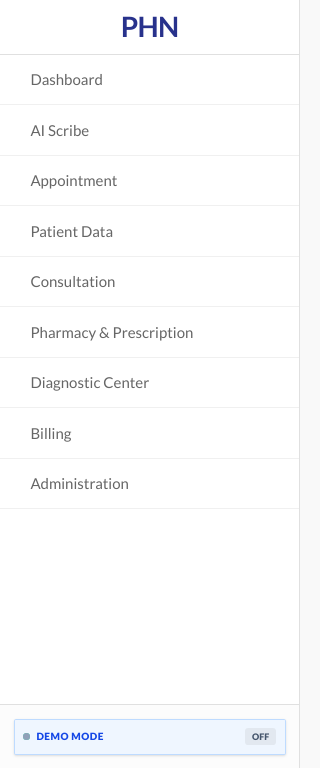
Test: Sidebar Component › renders correctly for doctor role and tests submenu toggle
This screenshot has width=320, height=768.
Click the text "Diagnostic Center". click: (90, 383)
box: [30,371,149,394]
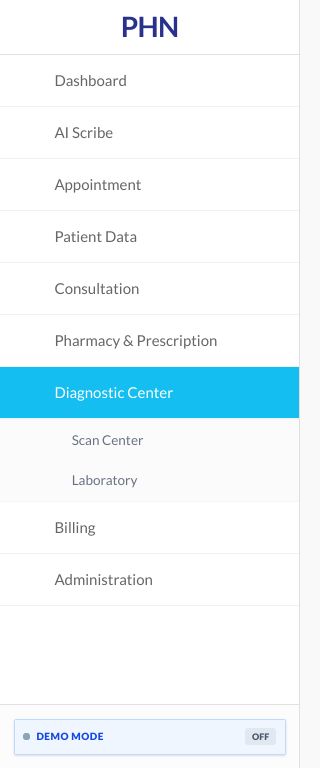
Now the text "Scan Center" is shown, box [44,431,143,449]
Now the text "Laboratory" is shown, box [44,472,137,490]
